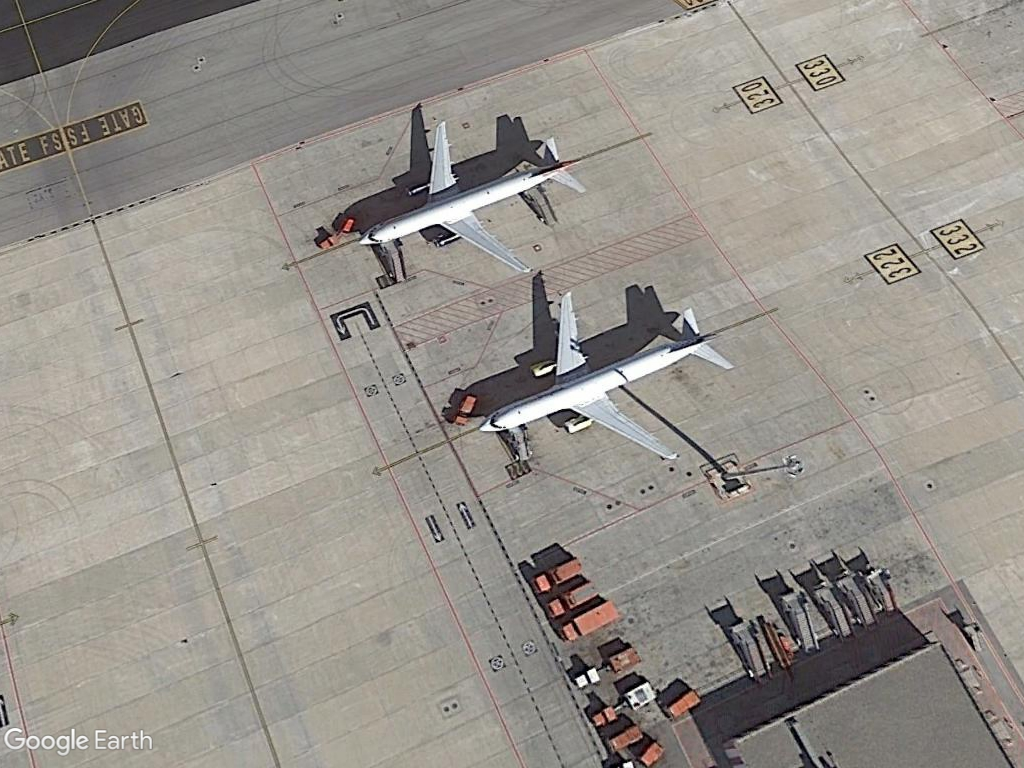airliner: (468, 296, 737, 467), (351, 111, 594, 285)
stairtruck: (723, 613, 774, 684), (774, 588, 825, 659), (826, 566, 879, 631)
